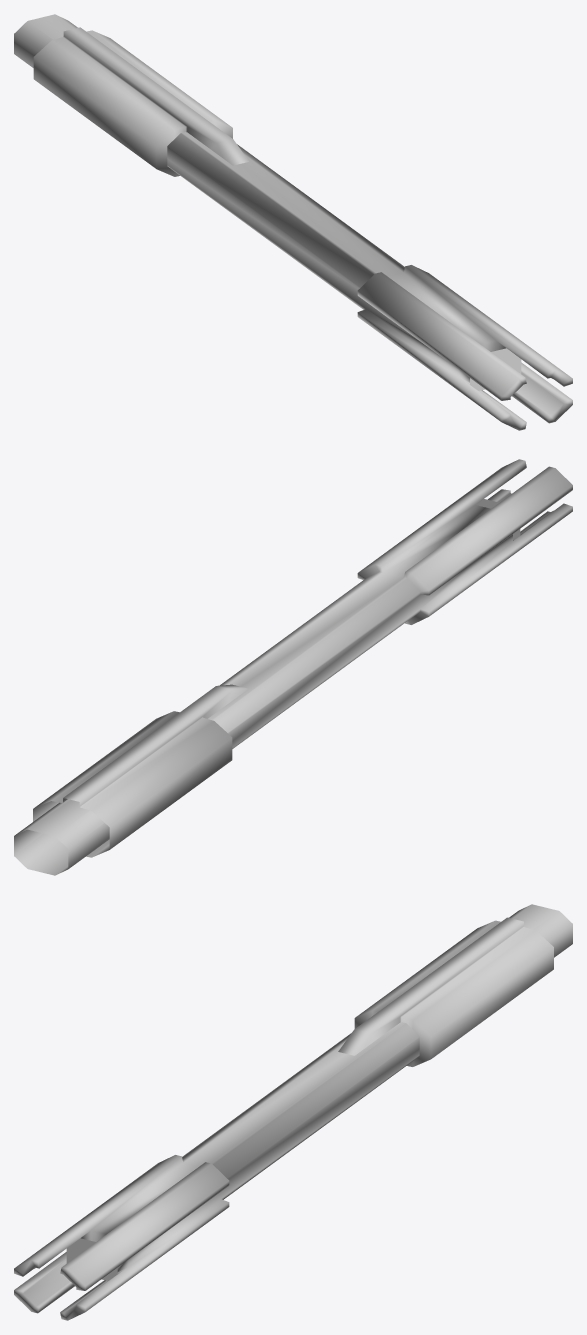
File: LancerCannon.fbx
3 renders of one model, top to bottom at view 1: azimuth 30°, elevation 25°; view 2: azimuth 150°, elevation 25°; view 3: azimuth 330°, elevation 25°, orthographic.
Visible parts, largest first — view 1: barrel_LP, cannon_case_sm_LP; view 2: barrel_LP, cannon_case_sm_LP; view 3: barrel_LP, cannon_case_sm_LP.
Boxes of the visible parts, x1=… form: barrel_LP: x1=14, y1=14, x2=572, y2=430; cannon_case_sm_LP: x1=33, y1=27, x2=249, y2=176; barrel_LP: x1=14, y1=459, x2=572, y2=875; cannon_case_sm_LP: x1=33, y1=684, x2=248, y2=857; barrel_LP: x1=14, y1=904, x2=572, y2=1320; cannon_case_sm_LP: x1=338, y1=917, x2=553, y2=1066.
Size of the model in its own units: 46.7 by 524 by 34.07.
